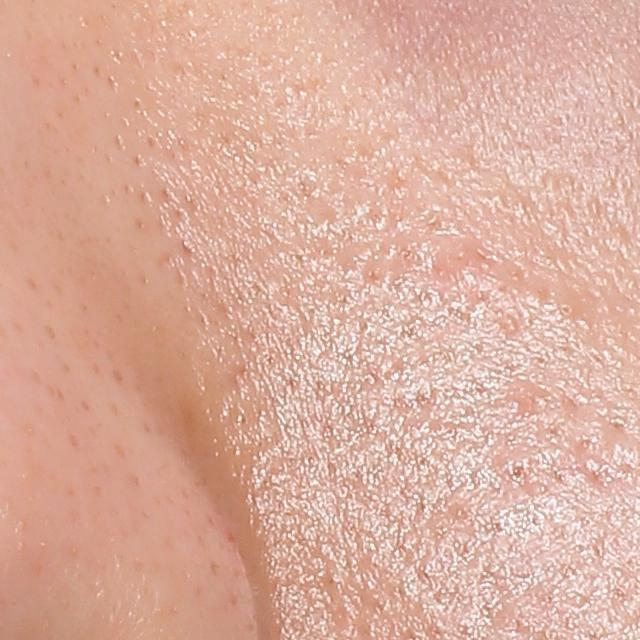comedo: (559, 299, 579, 317)
